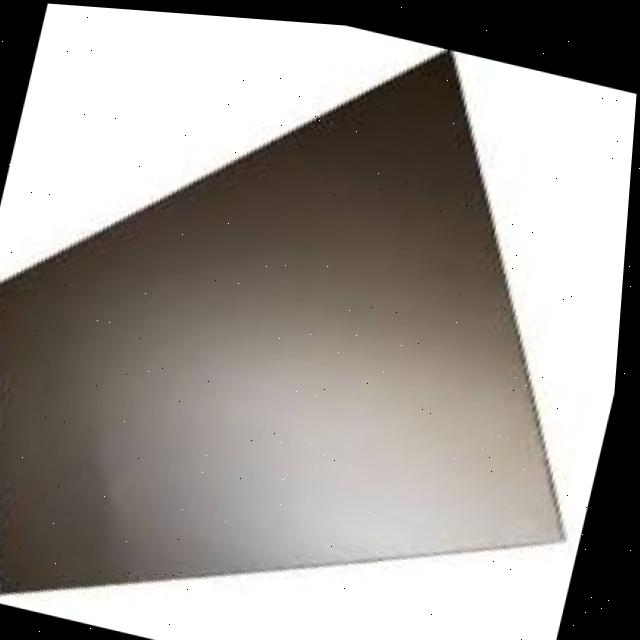Dry: (0, 45, 569, 593)
